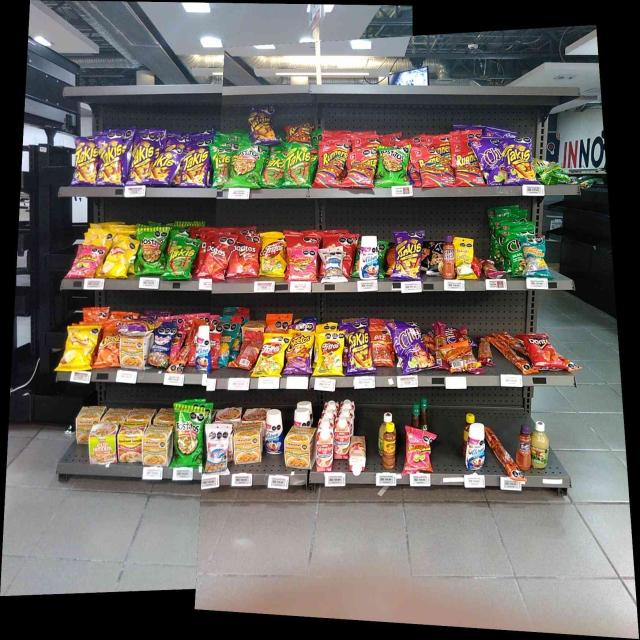bitzEnchilado90: (372, 325, 392, 367)
bitzEnchilado95: (488, 431, 514, 478), (497, 336, 521, 373)
bitzHabanero: (480, 259, 504, 279), (431, 320, 450, 344), (480, 337, 494, 368)
bokadosCacahuates: (150, 326, 168, 368)
botaneraChilito: (382, 423, 397, 468)
cheetosFlaminHot: (286, 331, 312, 376)
cheetosOriginal: (96, 327, 118, 367)
chipsFuego: (394, 321, 430, 373), (475, 137, 504, 186)
chipsJalapeno: (507, 233, 522, 277)
churrumais: (405, 427, 431, 472), (288, 248, 316, 281), (72, 245, 97, 278)
delPrimoSalsa: (534, 422, 549, 468)
doritosNacho: (202, 235, 228, 279), (232, 240, 258, 278), (526, 333, 554, 368)
fritosLimon: (315, 332, 342, 376), (259, 334, 283, 376), (262, 236, 285, 278)
leoCacahuates: (205, 424, 230, 477), (319, 246, 347, 282)
maruchanPollo: (234, 422, 262, 463), (286, 428, 314, 469), (145, 423, 170, 466), (120, 337, 148, 371)
nestleCarnation: (316, 428, 333, 472), (350, 435, 366, 472), (336, 418, 348, 459)
nestleLechera: (465, 423, 485, 472), (360, 236, 378, 279), (265, 412, 283, 455), (195, 327, 211, 372)
nissinCamaron: (89, 424, 116, 464)
nissinRes: (119, 423, 142, 463)
popKarameladas: (427, 242, 442, 276)
productoAtras: (440, 347, 478, 372), (238, 334, 256, 368)
runners: (410, 149, 451, 186), (317, 144, 346, 187), (348, 152, 375, 189), (453, 144, 472, 186)
sabritasOriginal: (103, 236, 132, 279), (66, 325, 92, 370)
semillasCalabaza: (458, 237, 474, 279)
semillasGirasol: (523, 237, 548, 277), (220, 319, 233, 367)
tajinDulce: (518, 427, 532, 470), (444, 236, 456, 279)
takisFuego: (506, 138, 534, 184), (394, 231, 420, 280), (345, 322, 369, 374), (99, 135, 122, 186), (130, 133, 152, 184), (182, 147, 208, 186), (74, 138, 96, 184), (250, 108, 275, 144), (154, 153, 180, 185)
takisOriginal: (166, 236, 193, 278), (288, 145, 313, 188), (211, 143, 229, 186), (265, 149, 285, 187)
tostitos: (174, 405, 203, 468), (136, 226, 163, 273), (232, 147, 261, 187), (379, 146, 408, 185)
